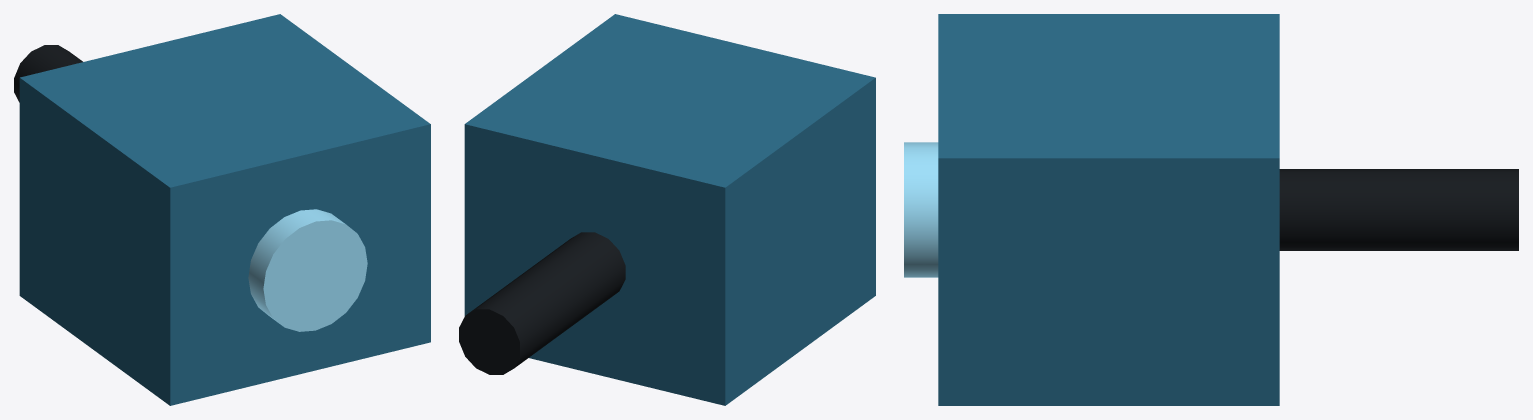
3 renders of one model, left to right at view 1: azimuth 30°, elevation 25°; view 2: azimuth 150°, elevation 25°; view 3: azimuth 270°, elevation 25°, orthographic. The views are drawn at different scales.
Parts seen in each view (by area): view 1: sensor, port, cable; view 2: sensor, cable; view 3: sensor, cable, port.
Boxes of the visible parts, x1,y1,x2,y2 form: sensor: [19, 14, 430, 405]; port: [248, 209, 367, 331]; cable: [14, 45, 82, 102]; sensor: [464, 14, 875, 405]; cable: [459, 232, 625, 374]; sensor: [938, 14, 1279, 405]; cable: [1279, 169, 1518, 250]; port: [904, 142, 938, 277].
Size of the model in its own units: 0.1 by 0.08 by 0.18.
